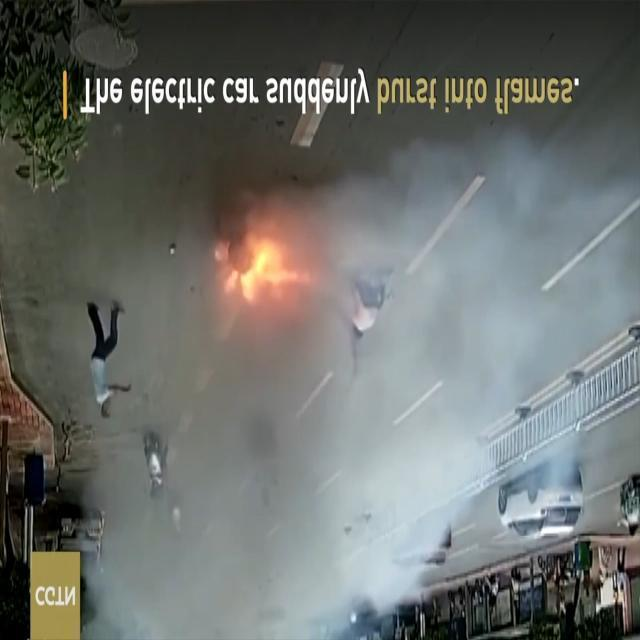fire: (210, 221, 313, 316)
